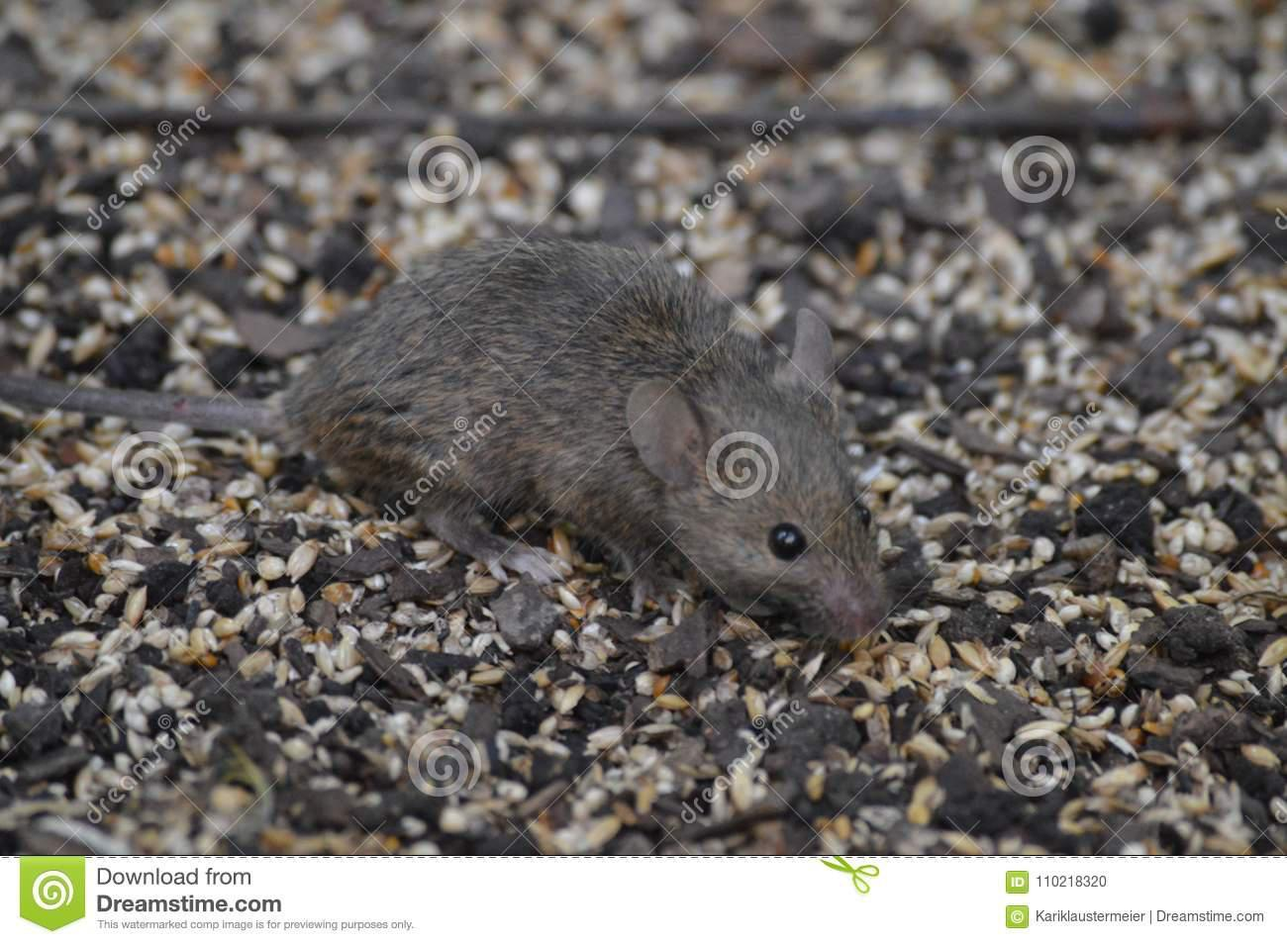rat: (3, 239, 886, 642)
